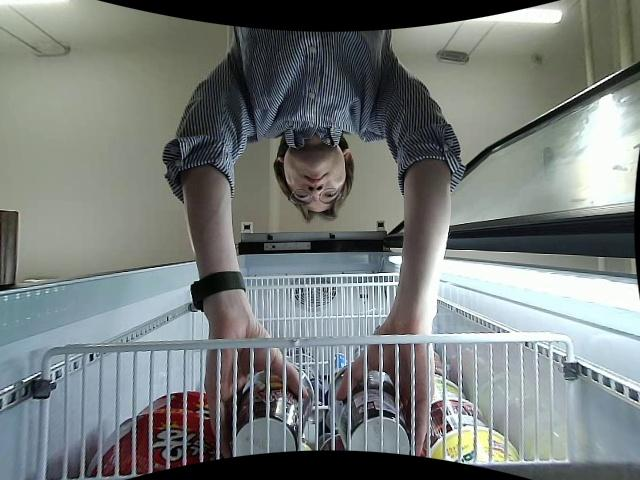00_hand: (203, 320, 310, 459), (338, 324, 435, 457)
08_buldak_S: (228, 361, 312, 457), (326, 365, 410, 456)
